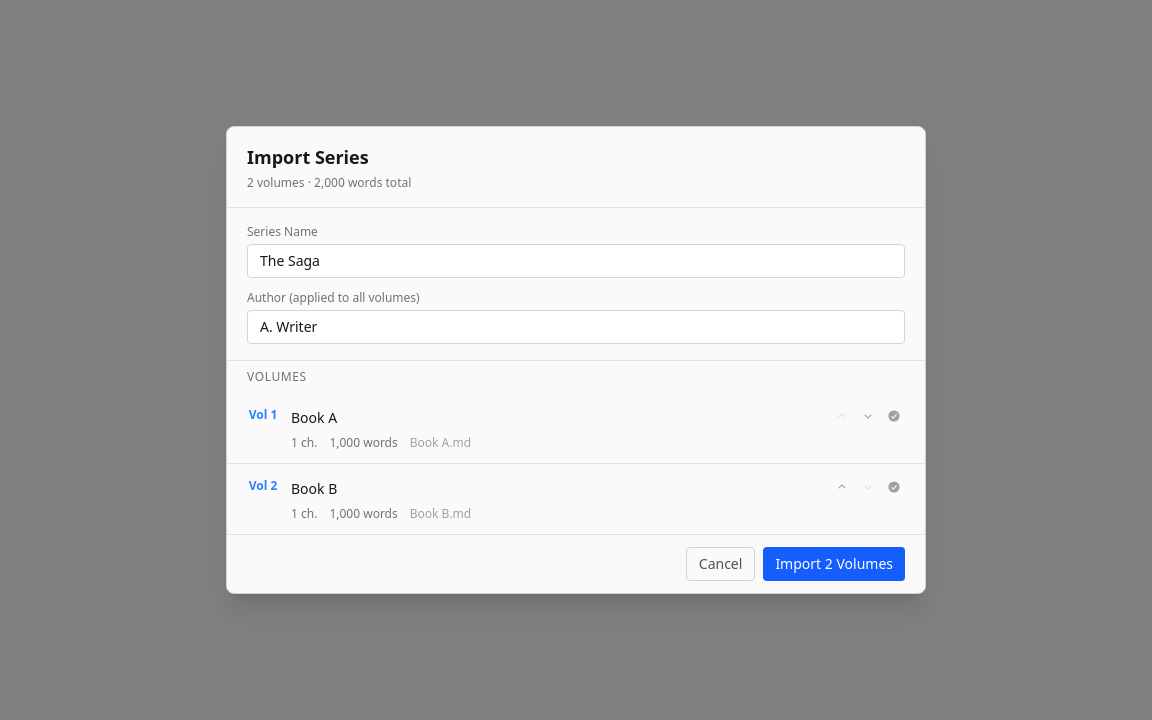
ImportSeriesWizard › commits active volumes and shows the per-volume success summary
The image size is (1152, 720).
Click the button "Import 2 Volumes" at (834, 564), box [763,547,905,581]
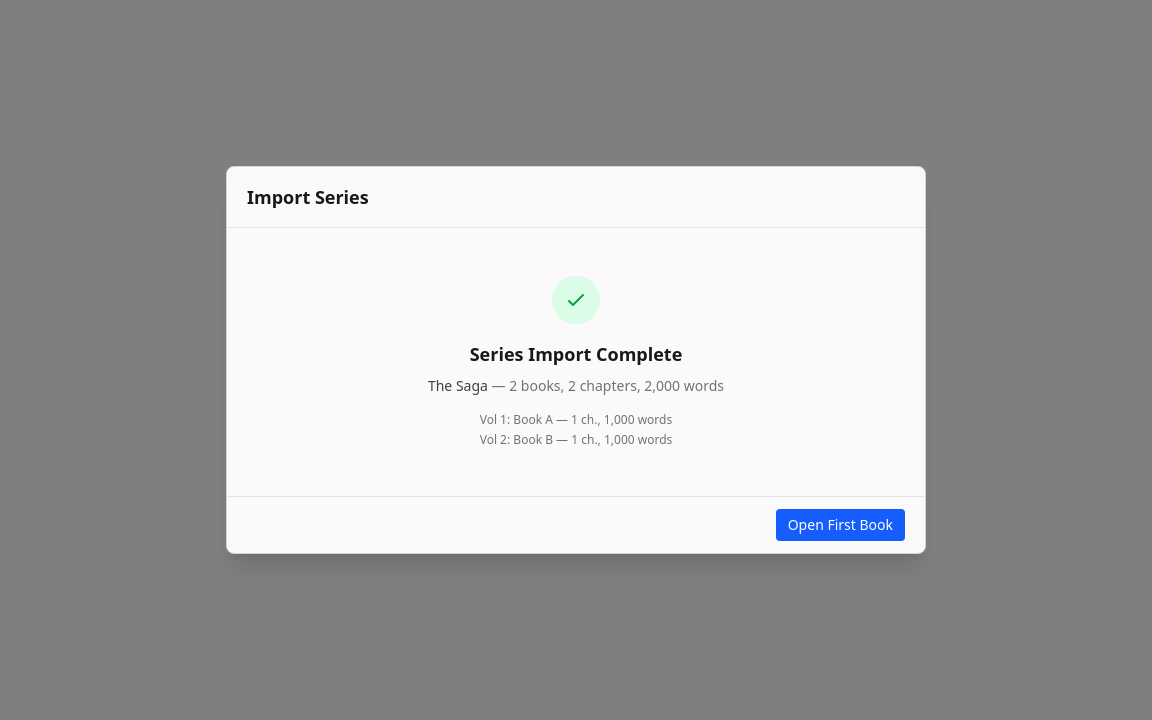
expect the heading "Series Import Complete" is shown: met, box [470,340,682,368]
expect the text "The Saga — 2 books, 2 chapters, 2,000 words" is shown: met, box [428,376,724,396]
expect the text "Vol 1: Book A — 1 ch., 1,000 words" is shown: met, box [480,412,672,428]
